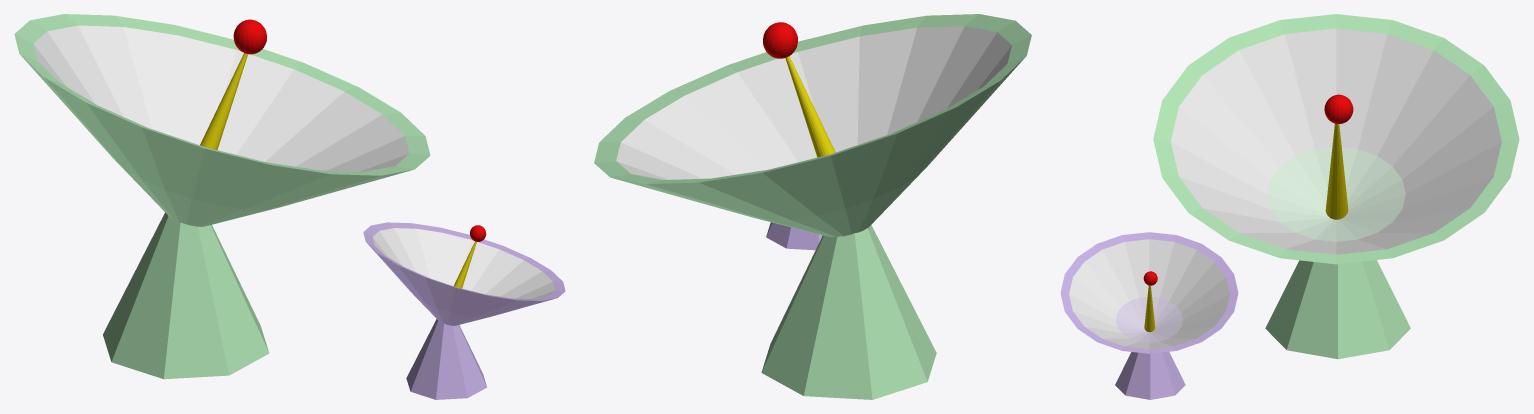
File: ANTENA1.fbx
The picture shows the model from 3 angles, left to right: view 1: azimuth 30°, elevation 25°; view 2: azimuth 150°, elevation 25°; view 3: azimuth 270°, elevation 25°; orthographic projection. The views are drawn at different scales.
Visible parts, largest first — view 1: polySurface27, polySurface39; view 2: polySurface27, polySurface39; view 3: polySurface27, polySurface39.
Part boxes in pixels (<box>): polySurface27: <box>14,14,430,379</box>; polySurface39: <box>363,222,565,399</box>; polySurface27: <box>594,14,1031,399</box>; polySurface39: <box>766,222,822,250</box>; polySurface27: <box>1153,14,1519,359</box>; polySurface39: <box>1060,232,1238,399</box>.
Size of the model in its own units: 12.43 by 9.18 by 14.75.
